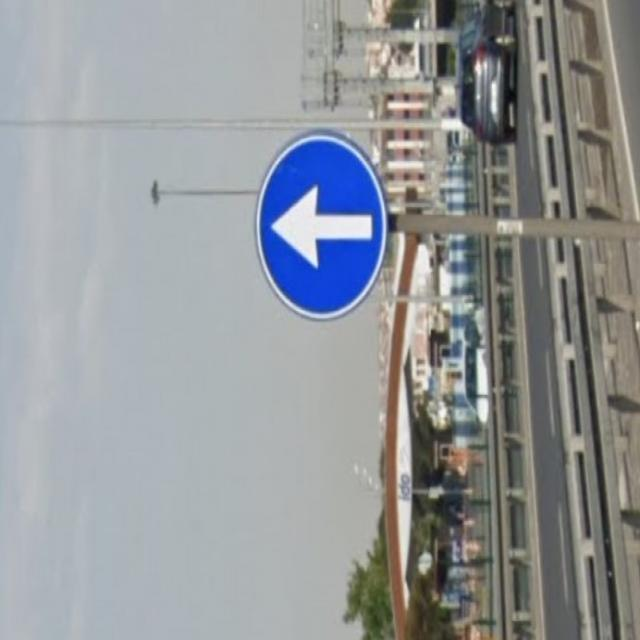Turn Left: (252, 135, 394, 319)
